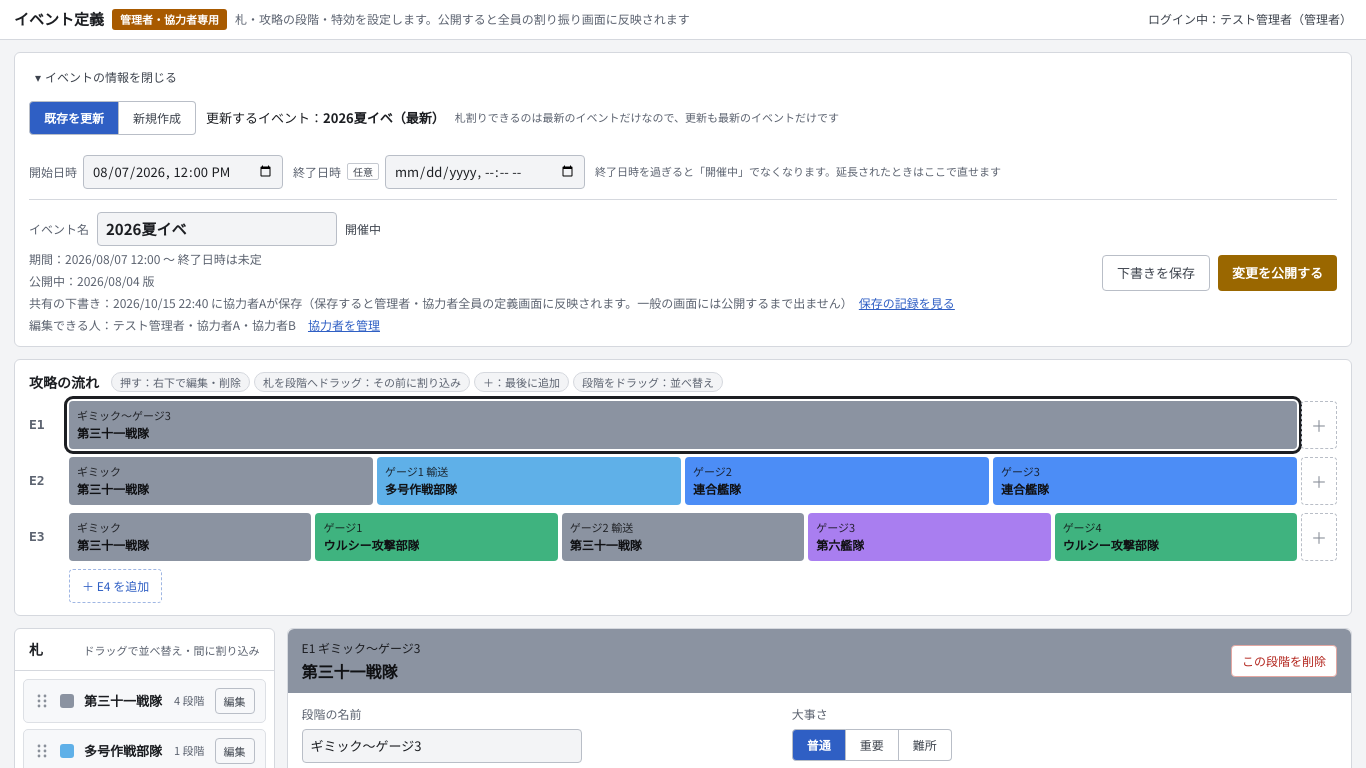
保存の記録のウィンドウ（定義画面） › ウィンドウの枠 › 右上の「×」で閉じる
Expected: the element "攻略の流れ" is shown, [14,358,1352,616]
Click the button "保存の記録を見る".
click(907, 302)  # box [859,294,955,310]
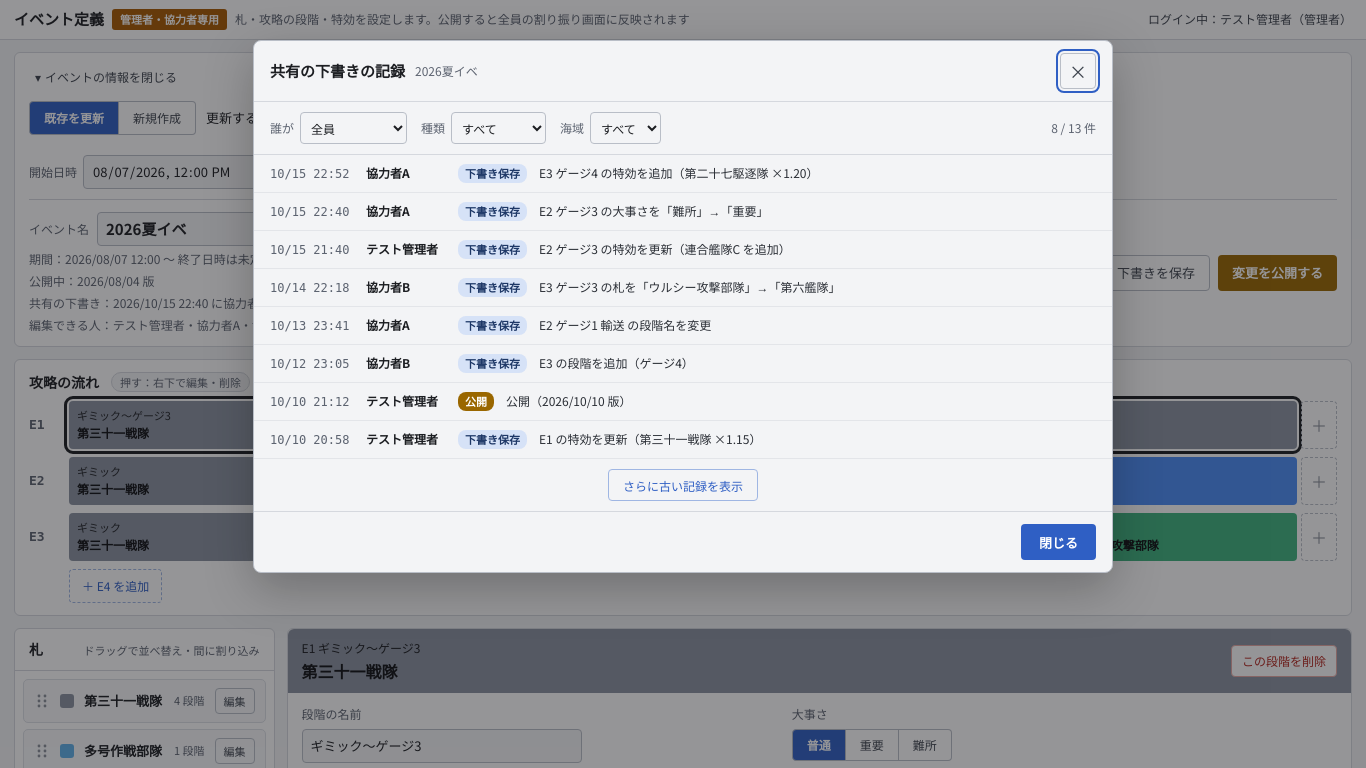
Now the list named "記録" is shown, box [254,155,1112,511]
Click the button named "閉じる".
click(1078, 71)  # box [1060,53,1096,89]
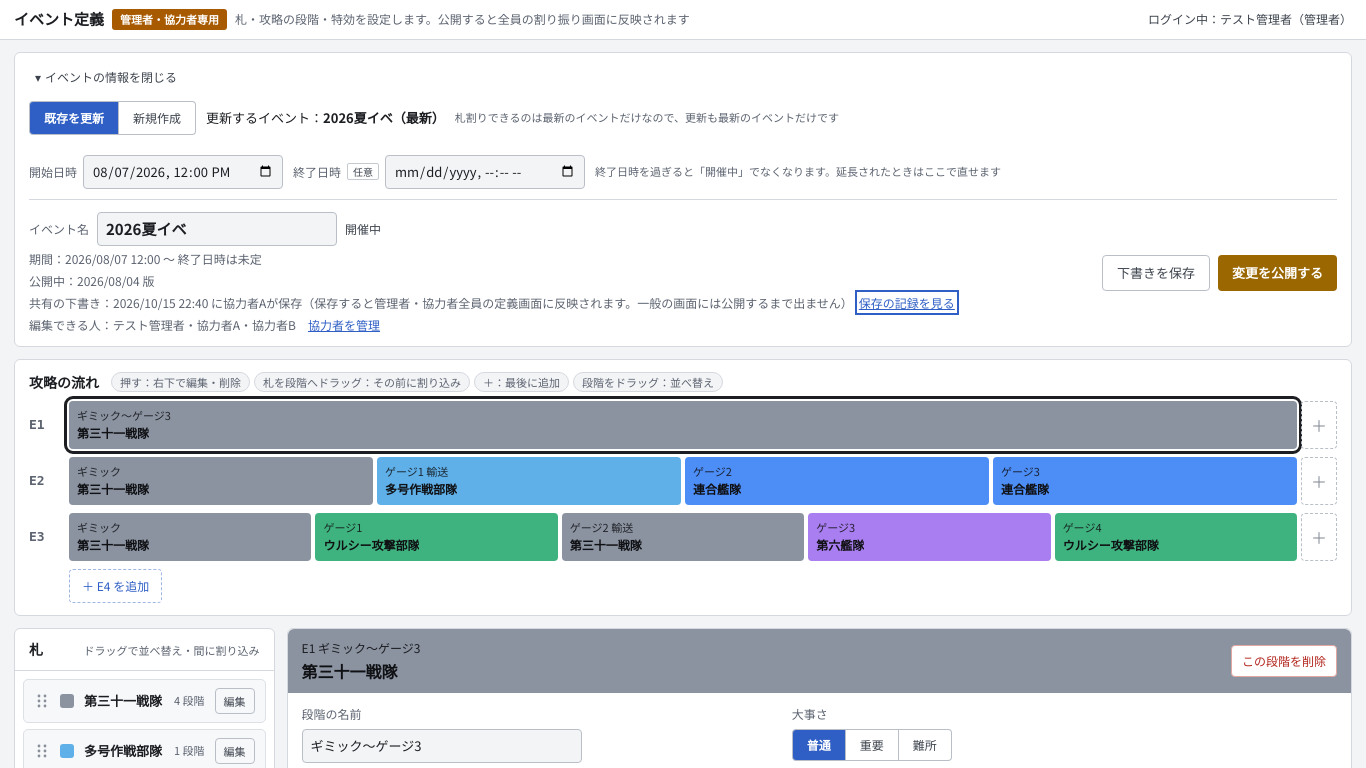
Now the dialog is gone
